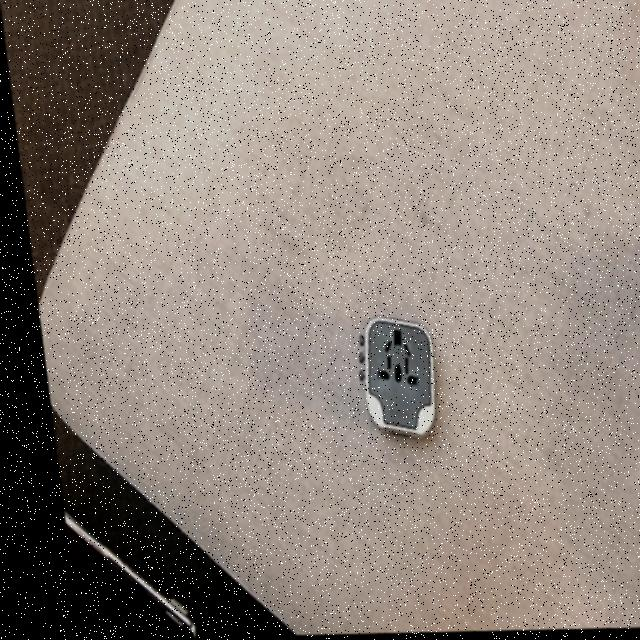adapter: (342, 315, 432, 439)
